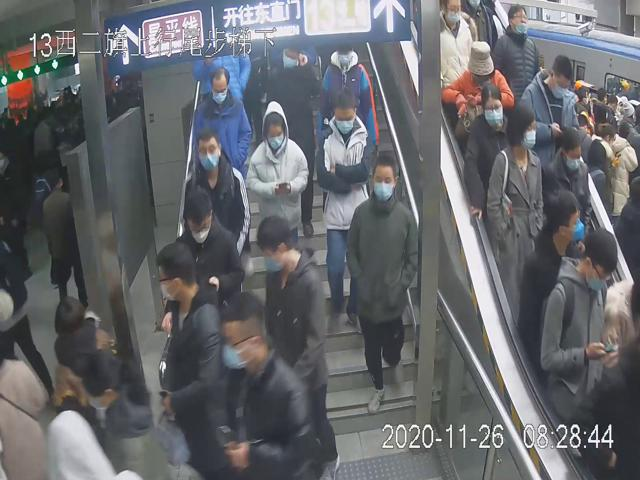person: (253, 210, 338, 480), (343, 152, 421, 417), (152, 239, 228, 480), (313, 92, 379, 338), (487, 103, 548, 336), (178, 124, 253, 274), (245, 96, 308, 250), (178, 186, 243, 316), (190, 62, 251, 180)
